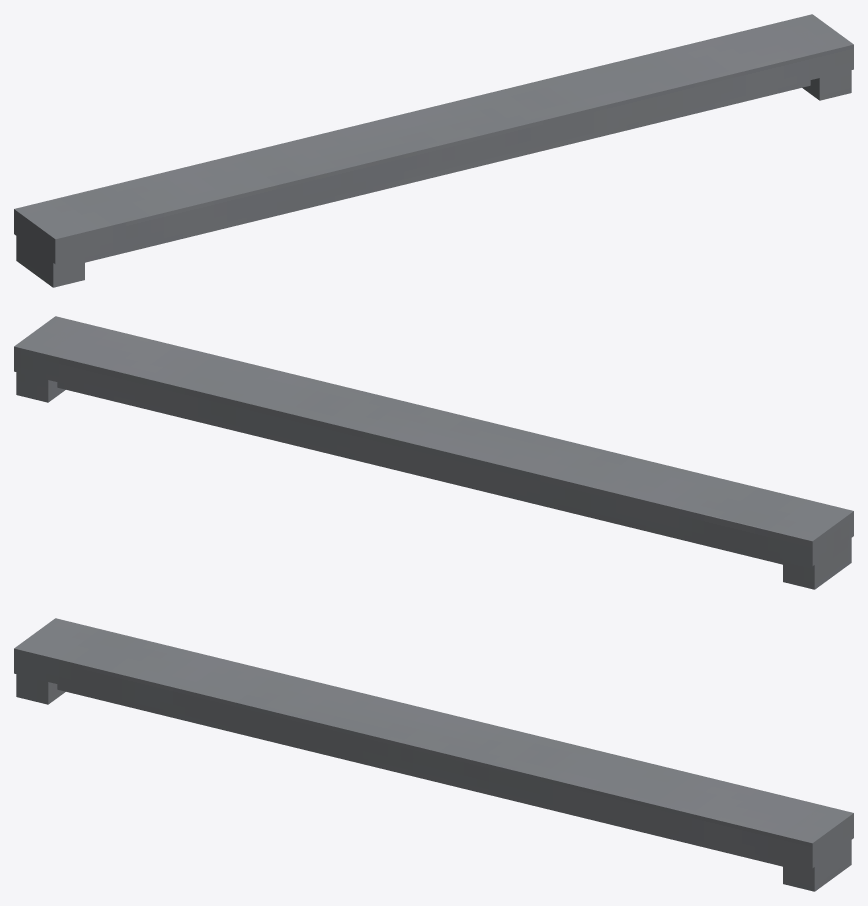
The model's file is lamp_tube.glb.
3 views of the same model, one above another, from view 1: azimuth 30°, elevation 25°; view 2: azimuth 150°, elevation 25°; view 3: azimuth 330°, elevation 25° (orthographic).
Parts seen in each view (by area): view 1: decor_lamp_tube_baked; view 2: decor_lamp_tube_baked; view 3: decor_lamp_tube_baked.
Part boxes in pixels (bbox=[...]): decor_lamp_tube_baked: bbox=[14, 14, 853, 287]; decor_lamp_tube_baked: bbox=[14, 316, 853, 589]; decor_lamp_tube_baked: bbox=[14, 618, 853, 891].
Bounding box in the file's own units: 1 × 0.06 × 0.09.
Materials: 1 (1 with a texture image).
